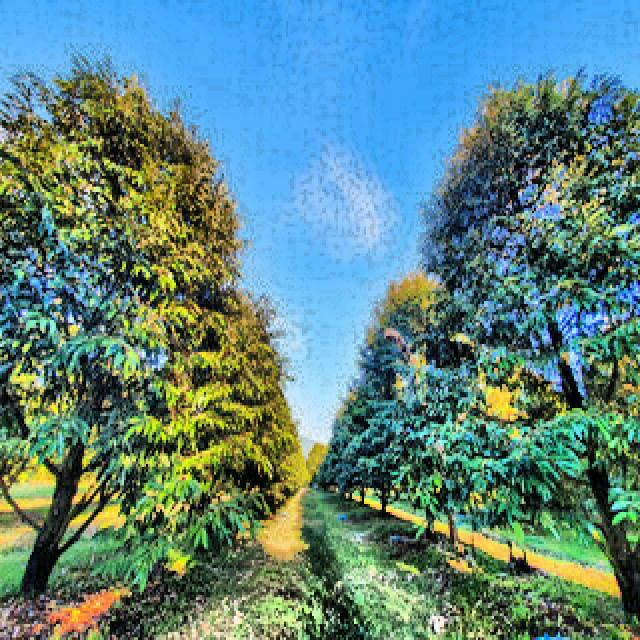arvore: (523, 258, 640, 640), (8, 296, 132, 612)
